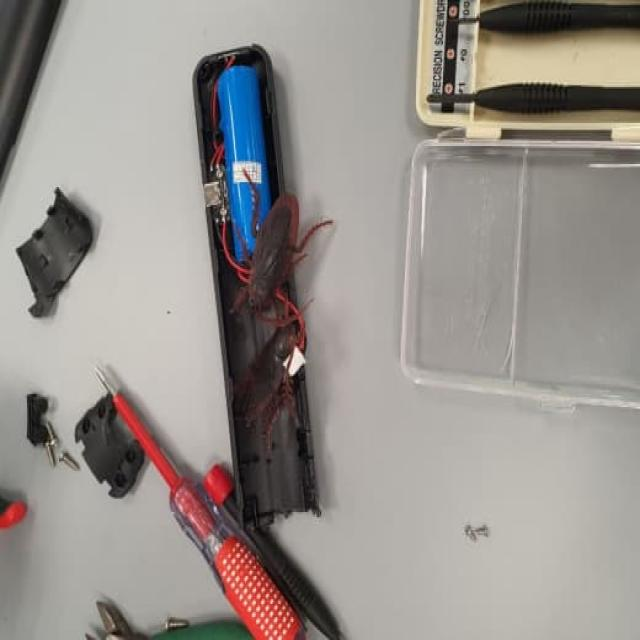Cockroach: (227, 174, 331, 325), (234, 310, 316, 451)
